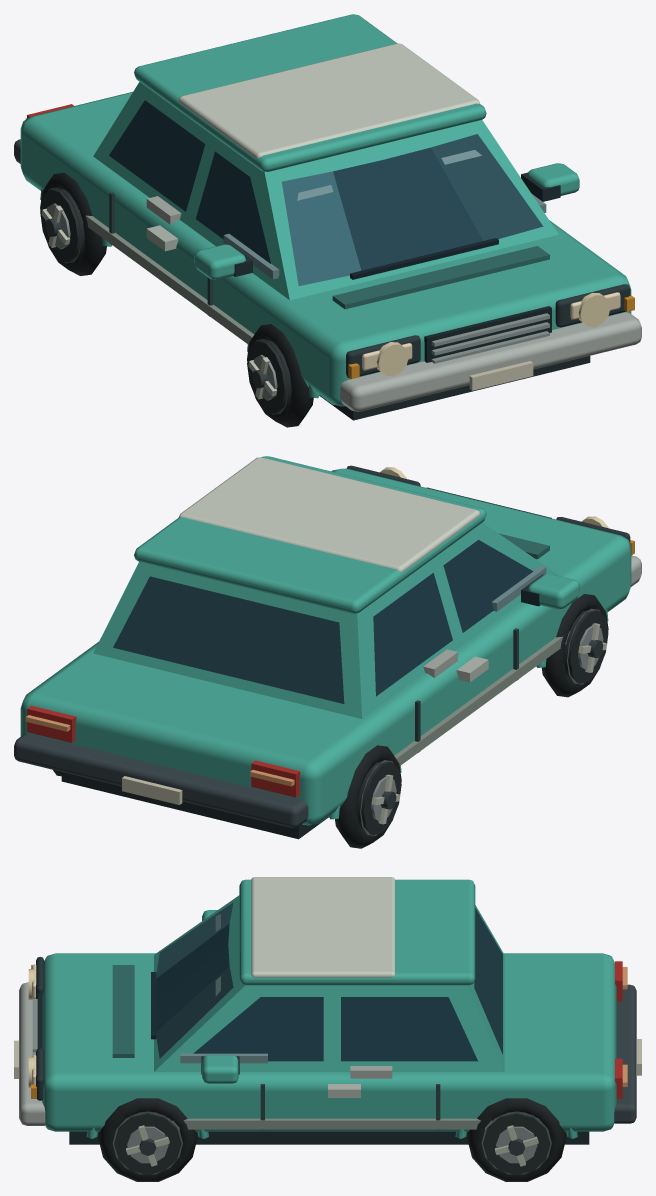
Rendered from compact.glb.
3 renders of one model, top to bottom at view 1: azimuth 30°, elevation 25°; view 2: azimuth 150°, elevation 25°; view 3: azimuth 270°, elevation 25°, orthographic. The views are drawn at different scales.
Visible parts, largest first — view 1: compact_body; view 2: compact_body; view 3: compact_body.
Boxes of the visible parts, x1,y1,x2,y2 form: compact_body: [14, 14, 641, 427]; compact_body: [14, 456, 641, 848]; compact_body: [14, 877, 641, 1181].
Size of the model in its own units: 2.08 by 1.17 by 3.43.
